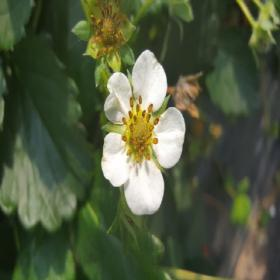Blossom Blight: (119, 94, 163, 165), (87, 0, 129, 63)
